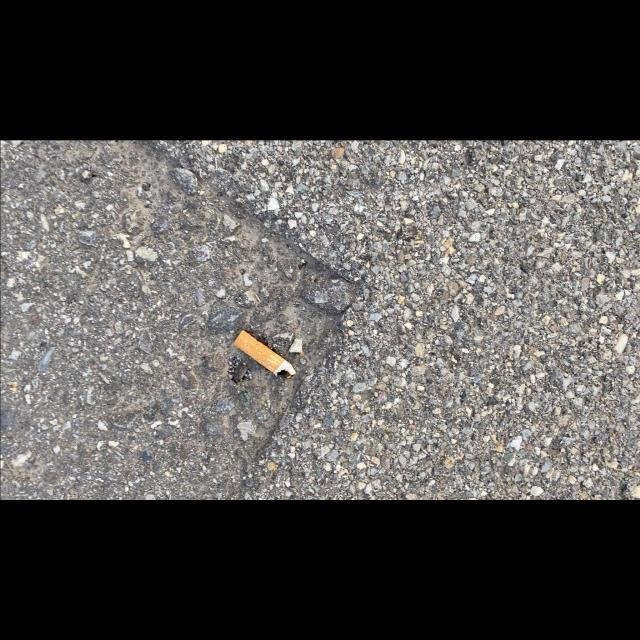cigarette: (233, 329, 296, 379)
